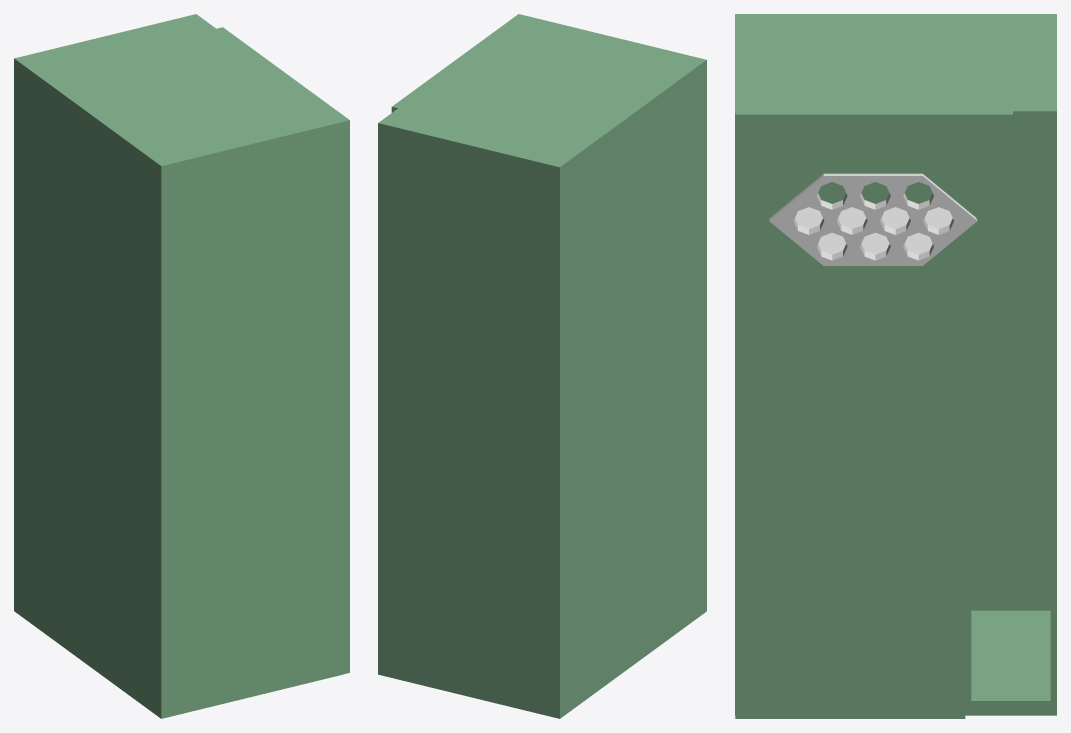
Rendered from Шкафчик.fbx.
3 renders of one model, left to right at view 1: azimuth 30°, elevation 25°; view 2: azimuth 150°, elevation 25°; view 3: azimuth 270°, elevation 25°, orthographic. The views are drawn at different scales.
Parts seen in each view (by area): view 1: Cube, Cube.001; view 2: Cube, Cube.001; view 3: Cube.001, Cube.
Boxes of the visible parts, box(x1,y1,x2,y2) form: Cube: box(14, 14, 343, 718); Cube.001: box(217, 27, 349, 674); Cube: box(378, 15, 706, 718); Cube.001: box(391, 14, 524, 112); Cube.001: box(735, 111, 1012, 718); Cube: box(735, 14, 1056, 715).
Size of the model in its own units: 209 by 580 by 280.
